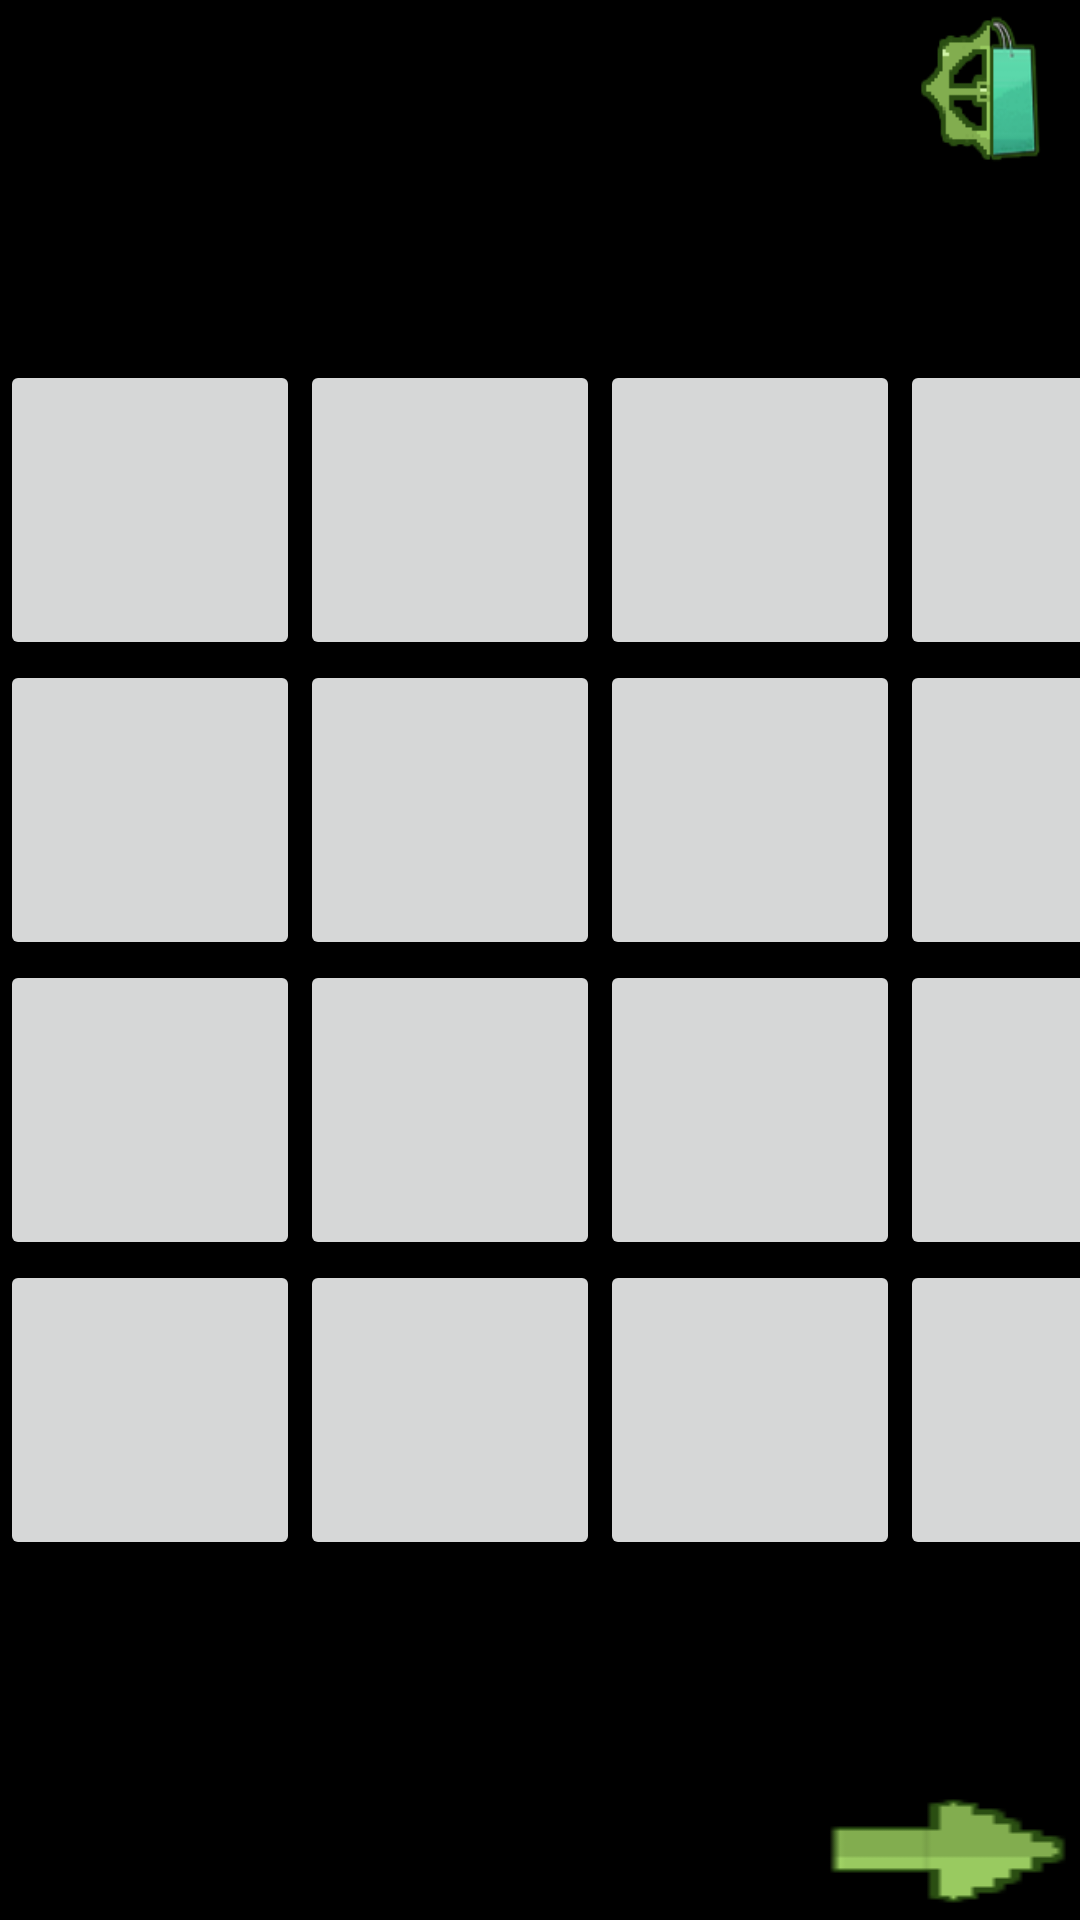

Where to tap for icons on this 1080px×1920px app screen, as (x,y):
arrow pic: (948,1851)
coleso pic: (980,88)
